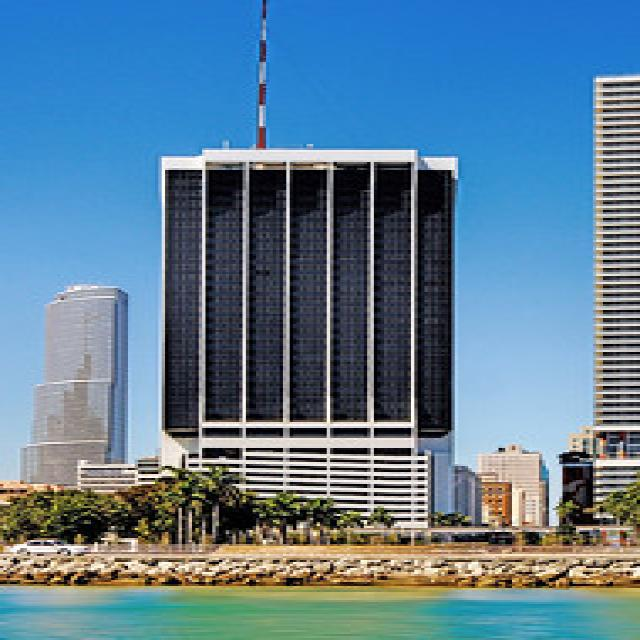building: (152, 143, 472, 533), (17, 279, 128, 491)
